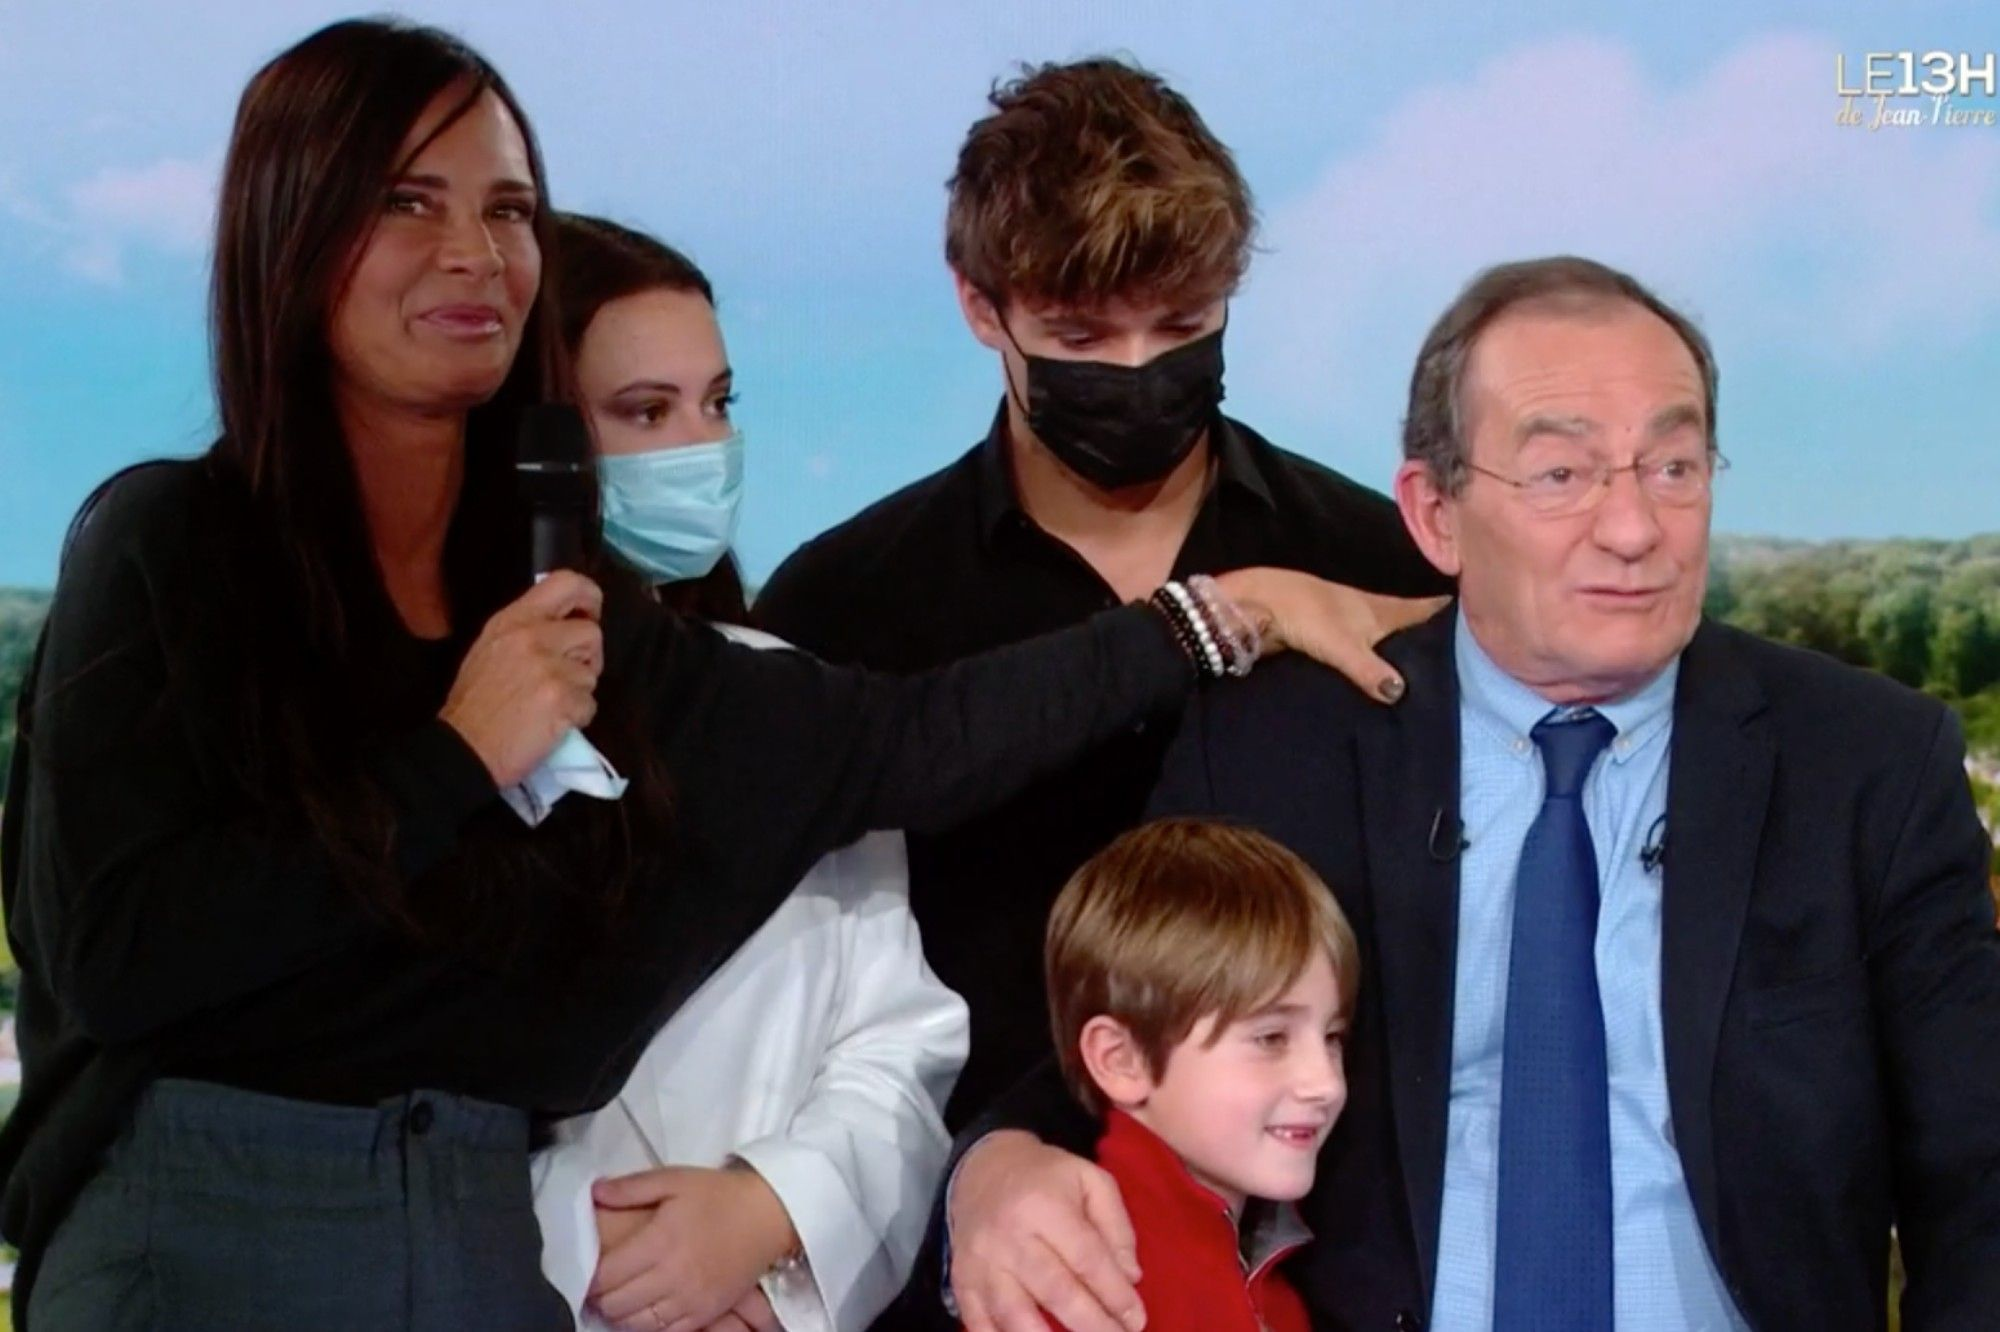with_mask: (980, 228, 1258, 501), (580, 308, 756, 595)
without_mask: (1472, 356, 1730, 690), (311, 93, 541, 401), (1139, 945, 1374, 1199)
